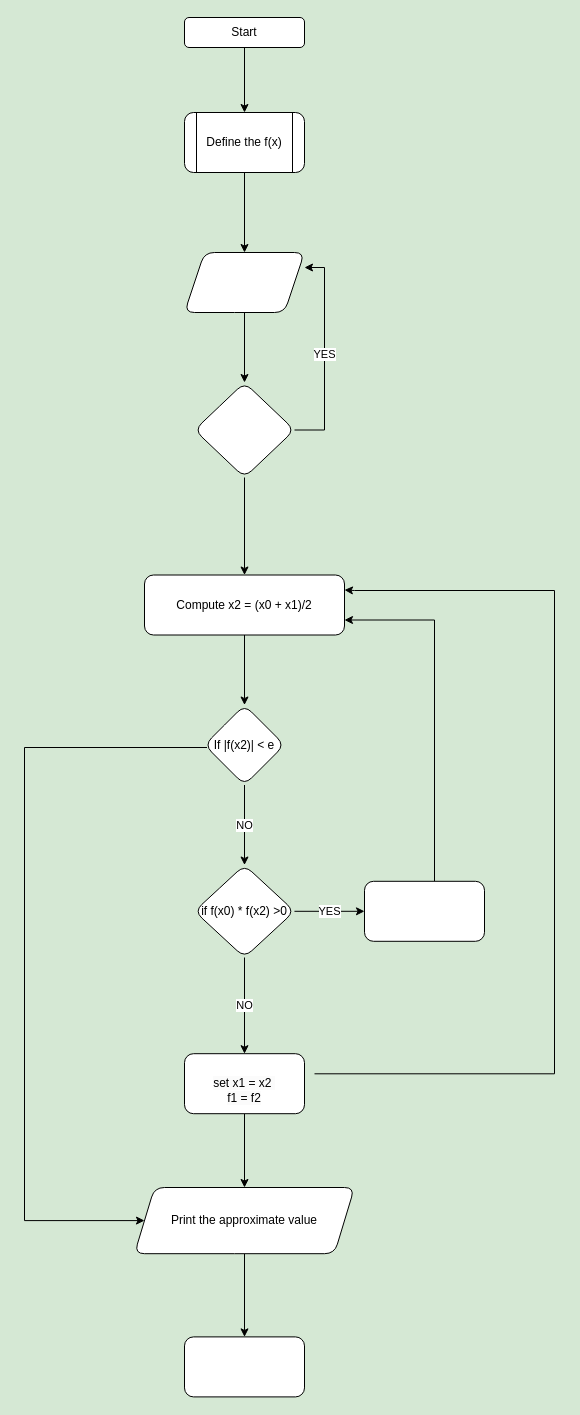
Image size: 580x1415. Some labels were removed from this diagram. Here are the shapes that lost their labels. From the top down, the centre of each, then its label:
At [244,282]: "Take the initial guesses for x0, x1 and e".
At [244,430]: "f(x0) *f(x1) > 0".
At [424,910]: "set x0 = x2 f0 = f2".
At [244,1366]: "Stop".
